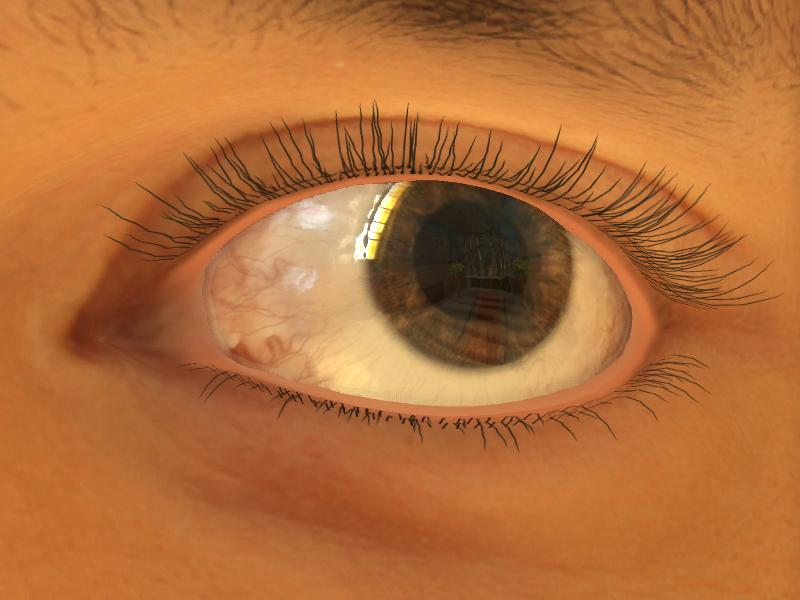eye: (369, 180, 575, 376)
